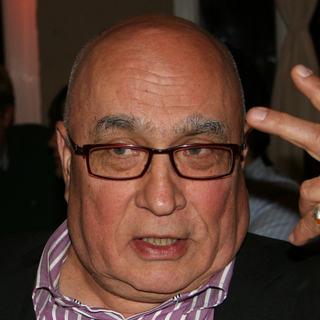eye: (182, 140, 228, 162), (96, 140, 141, 162)
